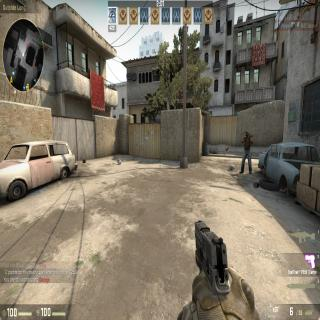T-Body: (241, 130, 252, 174)
T-Head: (245, 130, 249, 138)
